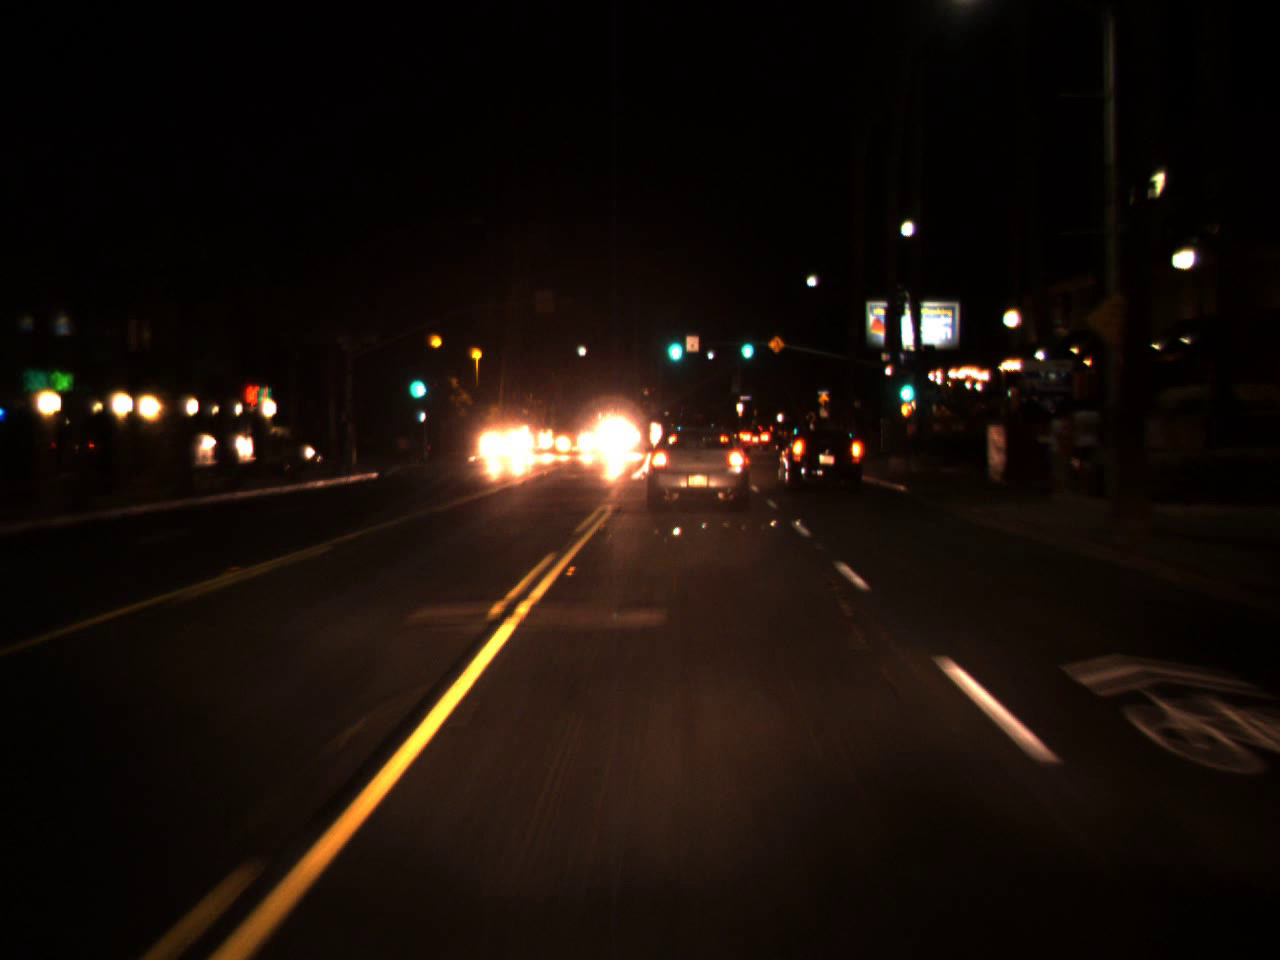go: (891, 358, 919, 409), (662, 320, 685, 368), (404, 359, 427, 404), (736, 330, 755, 360)
